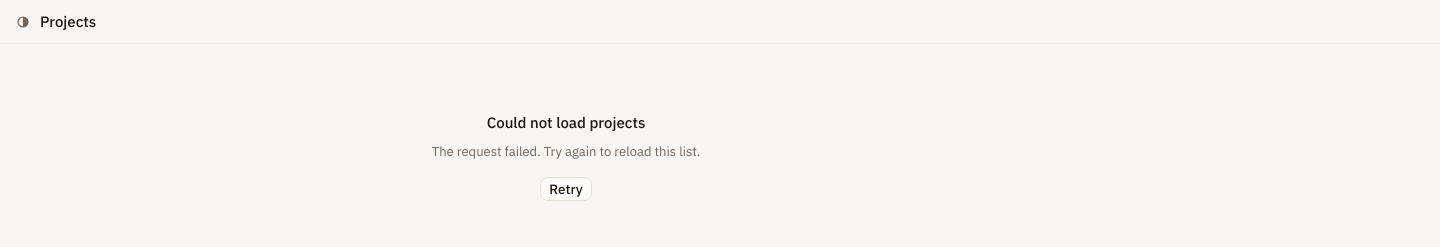
Test case: retryable list load errors › retries a failed projects query and preserves the true empty state
The image size is (1440, 247).
Expected: the heading "Could not load projects" is shown, [487,112,645,134]
Expected: the text "No projects yet" is not shown
Step 1. Click the button "Retry" → {"x": 566, "y": 189}, box [540,177,592,201]
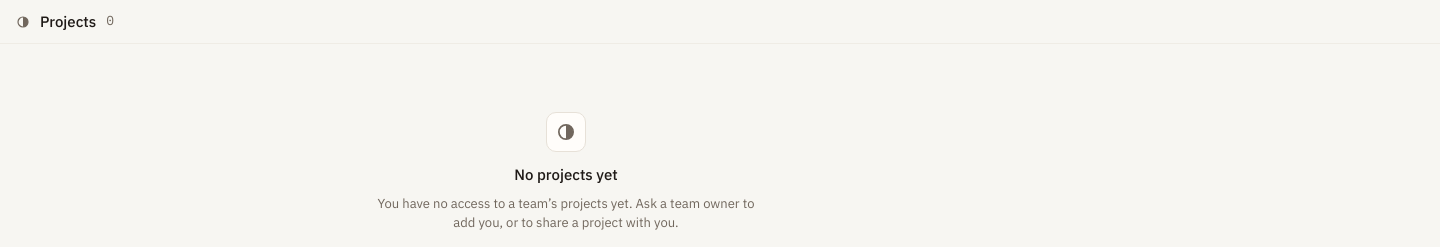
Result: the heading "No projects yet" is shown at [514,164,618,186]
